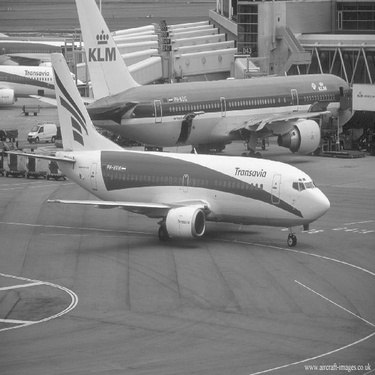airplane: (20, 40, 342, 254), (49, 2, 370, 162), (1, 49, 90, 128)
